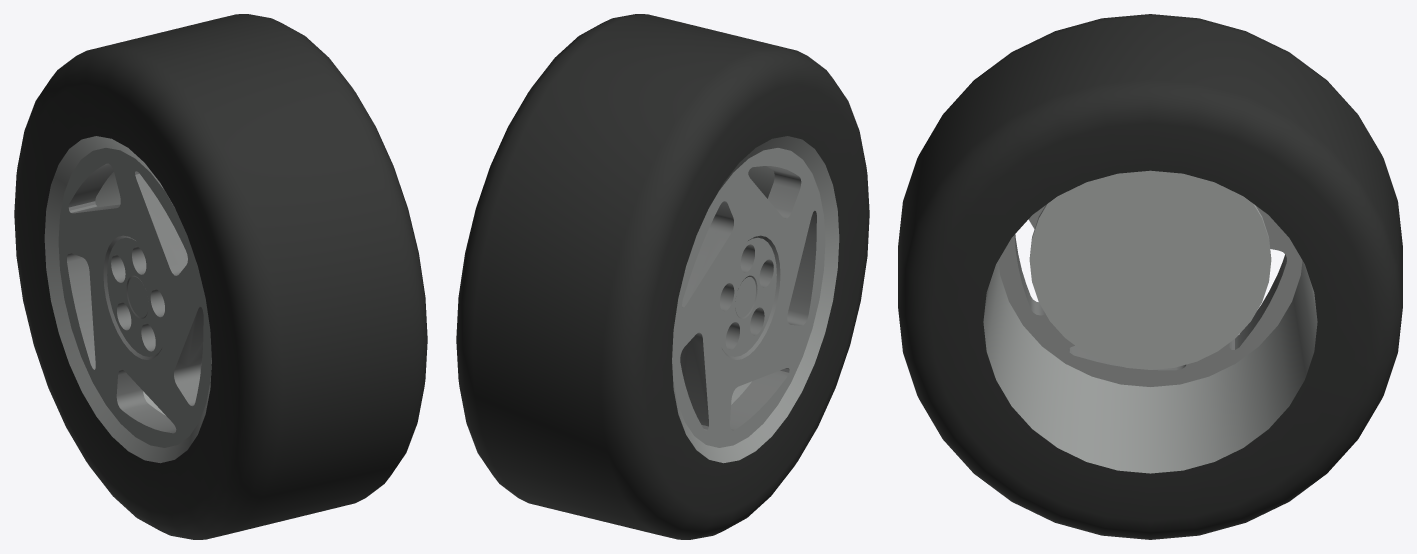
Rendered from rx7fc_wheel.fbx.
3 renders of one model, left to right at view 1: azimuth 30°, elevation 25°; view 2: azimuth 150°, elevation 25°; view 3: azimuth 270°, elevation 25°, orthographic.
Visible parts, largest first — view 1: rx7fc_wheel_l; view 2: rx7fc_wheel_l; view 3: rx7fc_wheel_l.
Boxes of the visible parts, bbox=[...] form: rx7fc_wheel_l: bbox=[14, 14, 427, 539]; rx7fc_wheel_l: bbox=[456, 14, 869, 539]; rx7fc_wheel_l: bbox=[898, 14, 1402, 539].
Size of the model in its own units: 0.2667 by 0.6301 by 0.6301.
